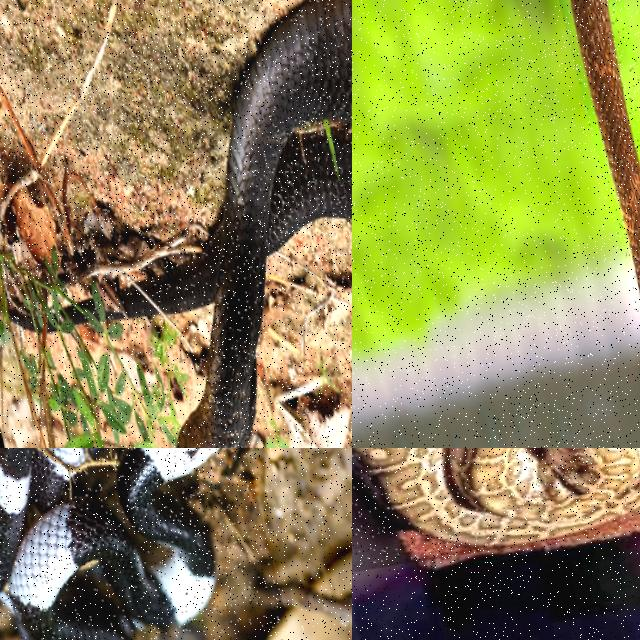Bungarus candidus: (0, 448, 217, 639)
Naja kaouthia: (570, 0, 639, 293)
Naja siamensis: (118, 0, 351, 447)
Python bivittatus: (352, 448, 639, 545)
